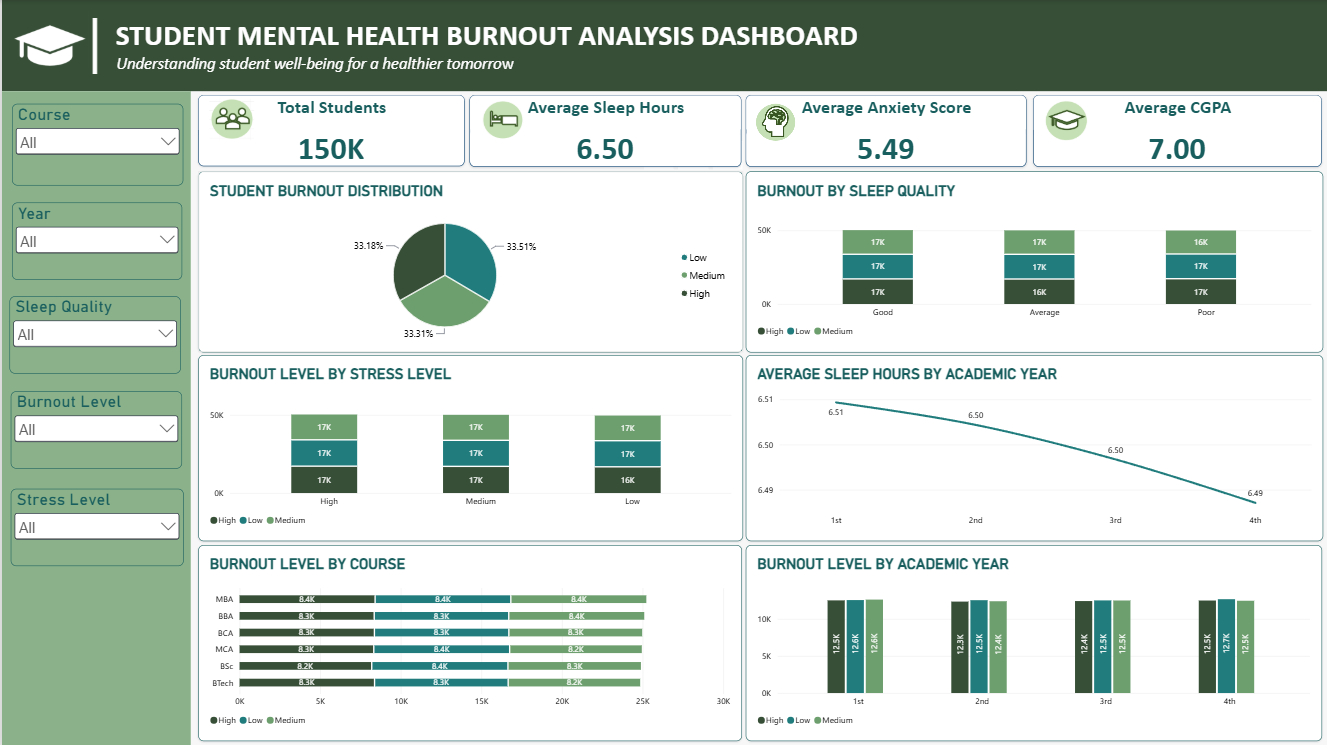

The dashboard page shown, as its layout file describes it:
{"tool":"powerbi","page":{"name":"Page 1","canvas":[1920,1080],"ordinal":0},"visuals":[{"type":"shape","box":[12.7,184.6,247.9,38],"z":0},{"type":"pieChart","title":"STUDENT BURNOUT DISTRIBUTION","fields":{"Category":["student_mental_health_burnout.burnout_level"],"Y":["CountNonNull(student_mental_health_burnout.student_id)"]},"box":[283.8,247.5,788.8,262.5],"z":1000},{"type":"clusteredColumnChart","title":"BURNOUT LEVEL BY ACADEMIC YEAR","fields":{"Category":["student_mental_health_burnout.year"],"Series":["student_mental_health_burnout.burnout_level"],"Y":["CountNonNull(student_mental_health_burnout.student_id)"]},"box":[1076.7,789,834.3,284.1],"z":2000},{"type":"columnChart","title":"BURNOUT LEVEL BY STRESS LEVEL","fields":{"Category":["student_mental_health_burnout.stress_level"],"Y":["CountNonNull(student_mental_health_burnout.student_id)"],"Series":["student_mental_health_burnout.burnout_level"]},"box":[284.1,513.9,789,269.6],"z":3000},{"type":"lineChart","title":"AVERAGE SLEEP HOURS BY ACADEMIC YEAR","fields":{"Category":["student_mental_health_burnout.year"],"Y":["student_mental_health_burnout.Average Sleep Hours"]},"box":[1076.7,514.4,836.1,269.6],"z":4000},{"type":"barChart","title":"BURNOUT LEVEL BY COURSE","fields":{"Category":["student_mental_health_burnout.course"],"Series":["student_mental_health_burnout.burnout_level"],"Y":["CountNonNull(student_mental_health_burnout.student_id)"]},"box":[284.1,789,787.2,284.1],"z":5000},{"type":"columnChart","title":"BURNOUT BY SLEEP QUALITY","fields":{"Category":["student_mental_health_burnout.sleep_quality"],"Series":["student_mental_health_burnout.burnout_level"],"Y":["CountNonNull(student_mental_health_burnout.student_id)"]},"box":[1076,248,836,262],"z":6000},{"type":"textbox","box":[0,0,1920.1,132.1],"z":7000},{"type":"shape","box":[0,132.1,273.3,948.3],"z":8000},{"type":"slicer","fields":{"Values":["student_mental_health_burnout.course"]},"box":[15,150,248.3,118.3],"z":9000},{"type":"slicer","fields":{"Values":["student_mental_health_burnout.year"]},"box":[15,293.3,246.7,111.7],"z":10000},{"type":"slicer","fields":{"Values":["student_mental_health_burnout.sleep_quality"]},"box":[11.7,428.3,248.3,111.7],"z":11000},{"type":"slicer","fields":{"Values":["student_mental_health_burnout.burnout_level"]},"box":[13.3,566.7,248.3,111.7],"z":12000},{"type":"slicer","title":"Stress Level","fields":{"Values":["student_mental_health_burnout.stress_level"]},"box":[13.3,708.3,250,111.7],"z":13000},{"type":"cardVisual","title":"   Total Students","fields":{"Data":["student_mental_health_burnout.Total Students"]},"box":[284,138,385.5,103.2],"z":14000},{"type":"cardVisual","title":"Average Sleep Hours","fields":{"Data":["student_mental_health_burnout.Average Sleep Hours"]},"box":[677.5,137.5,393.8,103.8],"z":15000},{"type":"cardVisual","title":"Average Anxiety Score","fields":{"Data":["student_mental_health_burnout.Average Anxiety Score"]},"box":[1076.2,137.5,406.2,103.8],"z":16000},{"type":"cardVisual","title":"Average CGPA","fields":{"Data":["student_mental_health_burnout.Average CGPA"]},"box":[1493.8,137.5,417.5,103.8],"z":17000},{"type":"image","box":[283.3,143.3,96.7,60],"z":18000},{"type":"image","box":[1076.7,150,83.3,55.6],"z":19000},{"type":"image","box":[1506.7,143.3,66.7,63.3],"z":20000},{"type":"textbox","box":[124,0,136,116],"z":21000},{"type":"image","box":[10,0,114.4,115.6],"z":22000},{"type":"image","box":[678.3,145,90,56.7],"z":23000}]}

Visuals, with their boxes in screenshot pixels (x1, y1, x2, y2), scaled from the page's 1920x1080 canvas onto the 1327x745 screenshot:
shape: (9, 127, 180, 154)
"STUDENT BURNOUT DISTRIBUTION" pieChart: (196, 171, 741, 352)
"BURNOUT LEVEL BY ACADEMIC YEAR" clusteredColumnChart: (744, 544, 1321, 740)
"BURNOUT LEVEL BY STRESS LEVEL" columnChart: (196, 354, 742, 540)
"AVERAGE SLEEP HOURS BY ACADEMIC YEAR" lineChart: (744, 355, 1322, 541)
"BURNOUT LEVEL BY COURSE" barChart: (196, 544, 740, 740)
"BURNOUT BY SLEEP QUALITY" columnChart: (744, 171, 1321, 352)
textbox: (0, 0, 1326, 91)
shape: (0, 91, 189, 744)
slicer - student_mental_health_burnout.course: (10, 103, 182, 185)
slicer - student_mental_health_burnout.year: (10, 202, 181, 279)
slicer - student_mental_health_burnout.sleep_quality: (8, 295, 180, 372)
slicer - student_mental_health_burnout.burnout_level: (9, 391, 181, 468)
"Stress Level" slicer: (9, 489, 182, 566)
"   Total Students" cardVisual: (196, 95, 463, 166)
"Average Sleep Hours" cardVisual: (468, 95, 740, 166)
"Average Anxiety Score" cardVisual: (744, 95, 1025, 166)
"Average CGPA" cardVisual: (1032, 95, 1321, 166)
image: (196, 99, 263, 140)
image: (744, 103, 802, 142)
image: (1041, 99, 1087, 143)
textbox: (86, 0, 180, 80)
image: (7, 0, 86, 80)
image: (469, 100, 531, 139)
